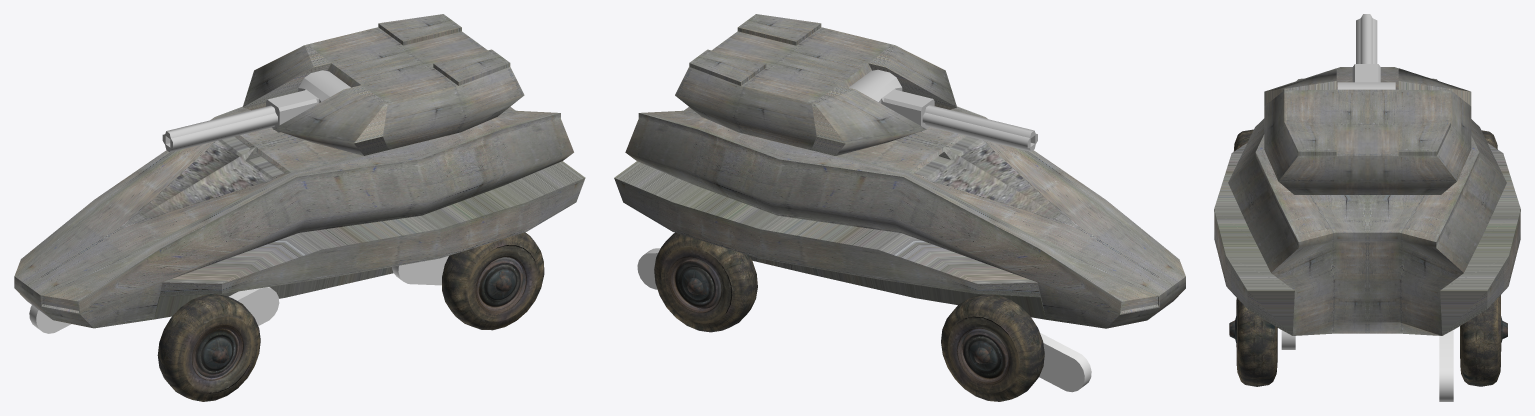
File: LBT.FBX
3 renders of one model, left to right at view 1: azimuth 30°, elevation 25°; view 2: azimuth 150°, elevation 25°; view 3: azimuth 270°, elevation 25°, orthographic. The views are drawn at different scales.
Parts seen in each view (by area): view 1: Box001, Box003, ef7d4f02, Box006, Box005, Cylinder002, Cylinder001, Cylinder004; view 2: Box001, Box003, ef7d4f02, Box006, Box005, Cylinder004, Cylinder003; view 3: Box001, Box003, ef7d4f02, Box006, Cylinder003, Box005.
Part boxes in pixels (bbox=[...]): Box001: bbox=[14, 106, 585, 328]; Box003: bbox=[243, 14, 524, 155]; ef7d4f02: bbox=[157, 232, 544, 401]; Box006: bbox=[162, 105, 277, 152]; Box005: bbox=[266, 70, 350, 132]; Cylinder002: bbox=[229, 287, 279, 325]; Cylinder001: bbox=[392, 256, 448, 285]; Cylinder004: bbox=[29, 305, 71, 333]; Box001: bbox=[614, 106, 1185, 328]; Box003: bbox=[675, 14, 956, 155]; ef7d4f02: bbox=[654, 232, 1044, 401]; Box006: bbox=[922, 105, 1037, 151]; Box005: bbox=[849, 69, 934, 131]; Cylinder004: bbox=[1039, 333, 1091, 392]; Cylinder003: bbox=[637, 248, 660, 289]; Box001: bbox=[1214, 67, 1520, 335]; Box003: bbox=[1264, 68, 1471, 194]; ef7d4f02: bbox=[1229, 129, 1507, 386]; Box006: bbox=[1356, 14, 1377, 63]; Cylinder003: bbox=[1439, 330, 1453, 401]; Box005: bbox=[1337, 64, 1395, 89].
Bounding box in the file's own units: 275 × 127 × 141.
